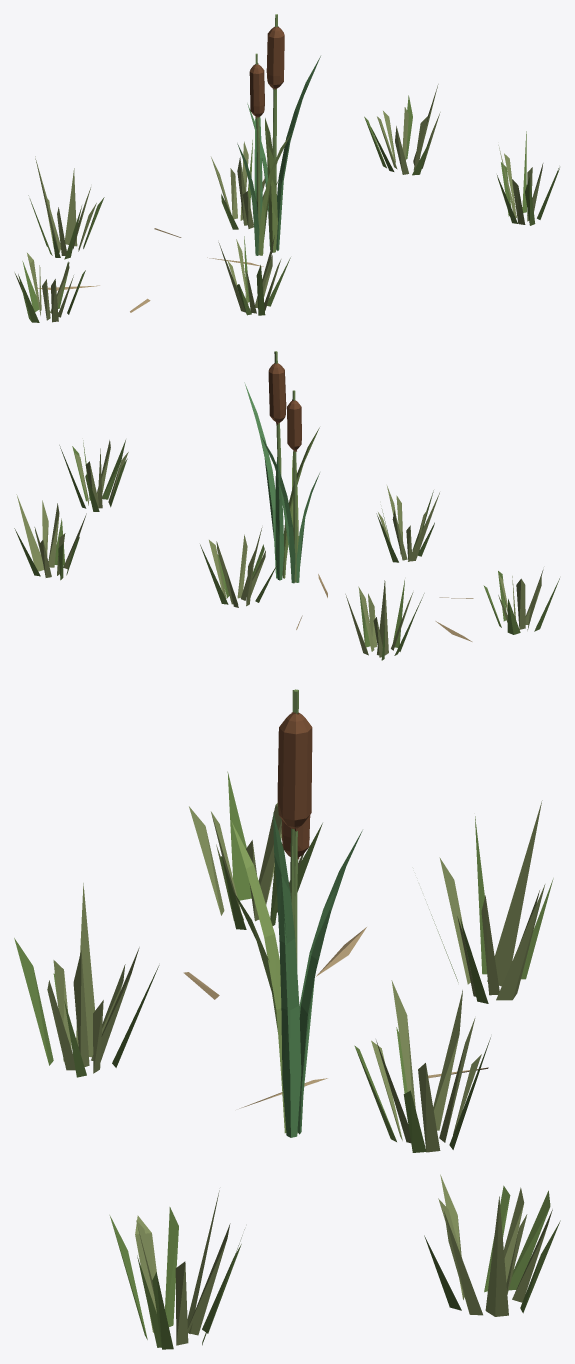
The model's file is pf_reeds.glb.
3 renders of one model, top to bottom at view 1: azimuth 30°, elevation 25°; view 2: azimuth 150°, elevation 25°; view 3: azimuth 270°, elevation 25°, orthographic. The views are drawn at different scales.
Visible parts, largest first — view 1: body_nh, body__far; view 2: body_nh, body__far; view 3: body_nh, body__far.
Part boxes in pixels (x1,y1,x2,y2): body_nh: (14, 14, 559, 322); body__far: (39, 26, 558, 317); body_nh: (14, 351, 559, 660); body__far: (83, 363, 515, 651); body_nh: (14, 689, 560, 1349); body__far: (112, 690, 553, 1344).
Size of the model in its own units: 28.09 by 12.01 by 13.33.
